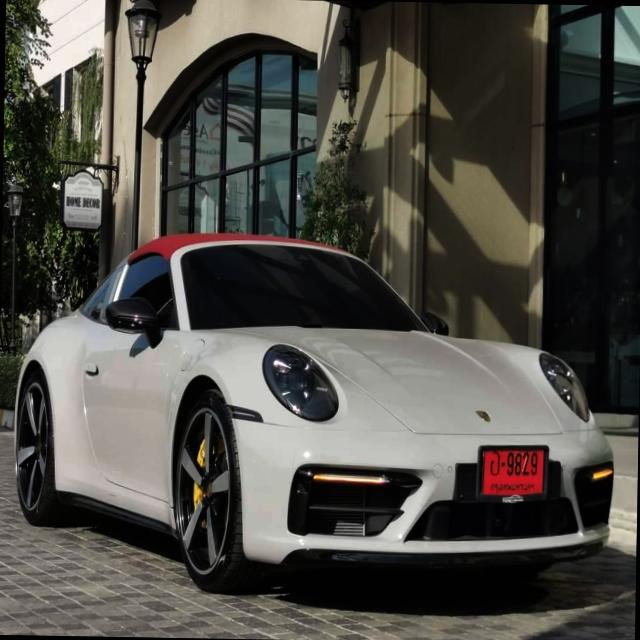license_plate: (473, 440, 554, 515)
